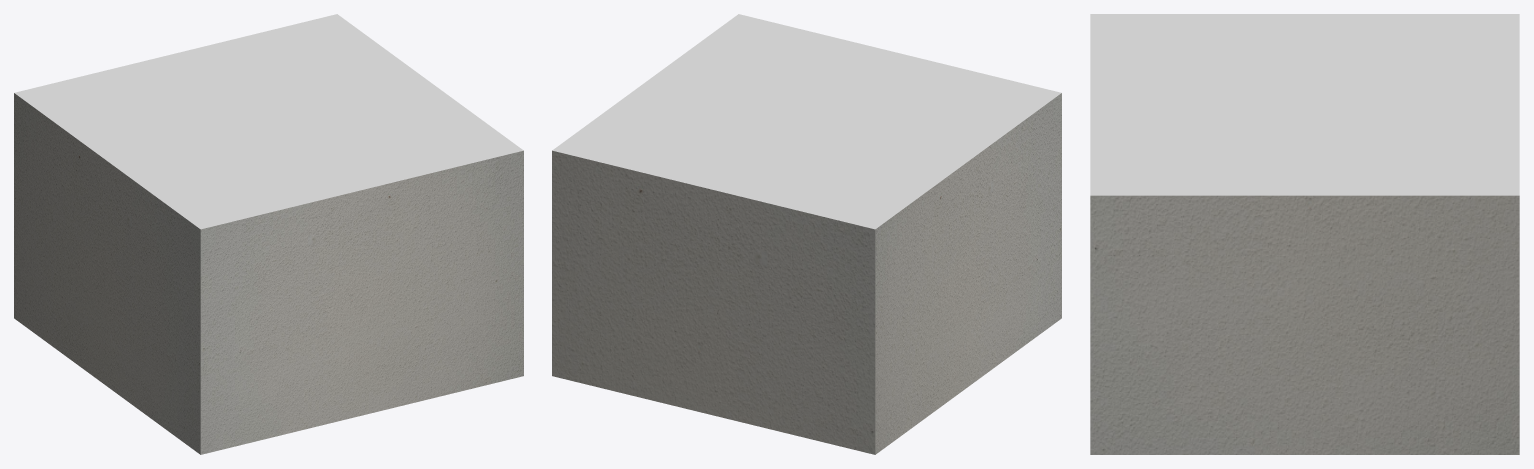
Rendered from lobby.fbx.
3 renders of one model, left to right at view 1: azimuth 30°, elevation 25°; view 2: azimuth 150°, elevation 25°; view 3: azimuth 270°, elevation 25°, orthographic. The views are drawn at different scales.
Parts seen in each view (by area): view 1: wall3, floor, wall4; view 2: wall1, floor, wall4; view 3: wall2, floor.
Boxes of the visible parts, bbox=[...] form: wall3: bbox=[200, 150, 523, 454]; floor: bbox=[14, 14, 523, 229]; wall4: bbox=[14, 93, 200, 454]; wall1: bbox=[552, 150, 875, 454]; floor: bbox=[552, 14, 1061, 229]; wall4: bbox=[875, 93, 1061, 454]; wall2: bbox=[1090, 195, 1519, 454]; floor: bbox=[1090, 14, 1519, 195].
Bounding box in the file's own units: 5.83 × 5.83 × 3.88.
